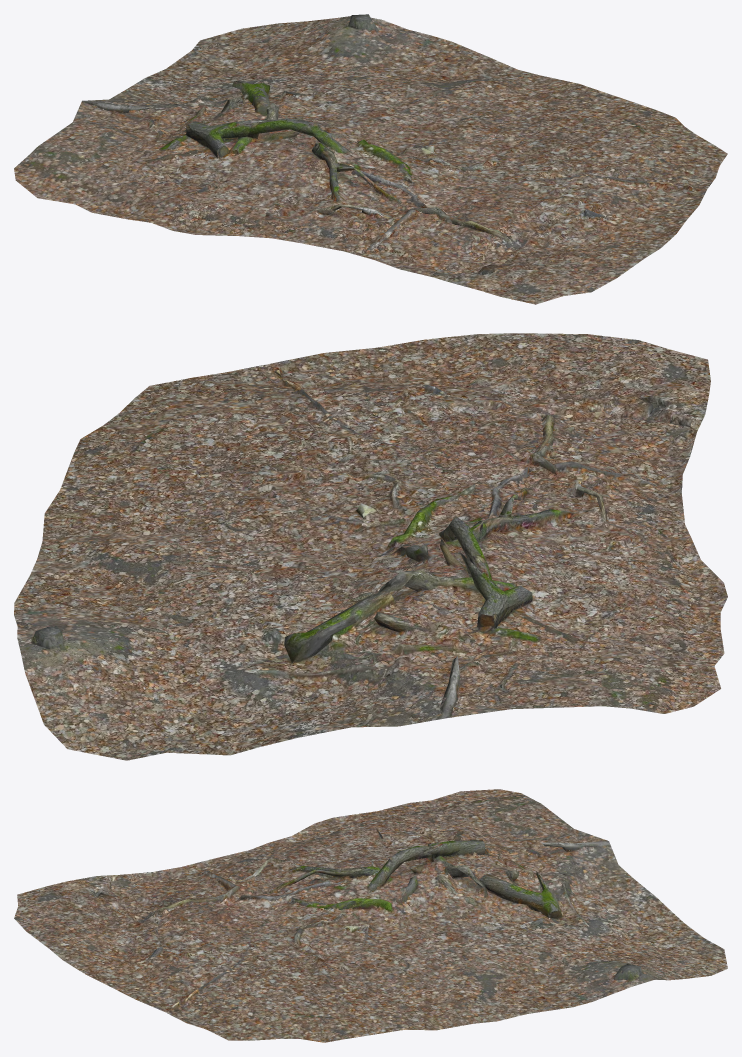
File: deer-ground-v3.glb
3 views of the same model, one above another, from view 1: azimuth 30°, elevation 25°; view 2: azimuth 150°, elevation 25°; view 3: azimuth 270°, elevation 25° (orthographic). The views are drawn at different scales.
Parts seen in each view (by area): view 1: Forest Ground Leaves; view 2: Forest Ground Leaves; view 3: Forest Ground Leaves.
Boxes of the visible parts, bbox=[...] form: Forest Ground Leaves: bbox=[14, 14, 727, 304]; Forest Ground Leaves: bbox=[14, 333, 727, 760]; Forest Ground Leaves: bbox=[14, 789, 727, 1042].
Size of the model in its own units: 9.21 by 1.08 by 11.12.
Materials: 1 (1 with a texture image).
